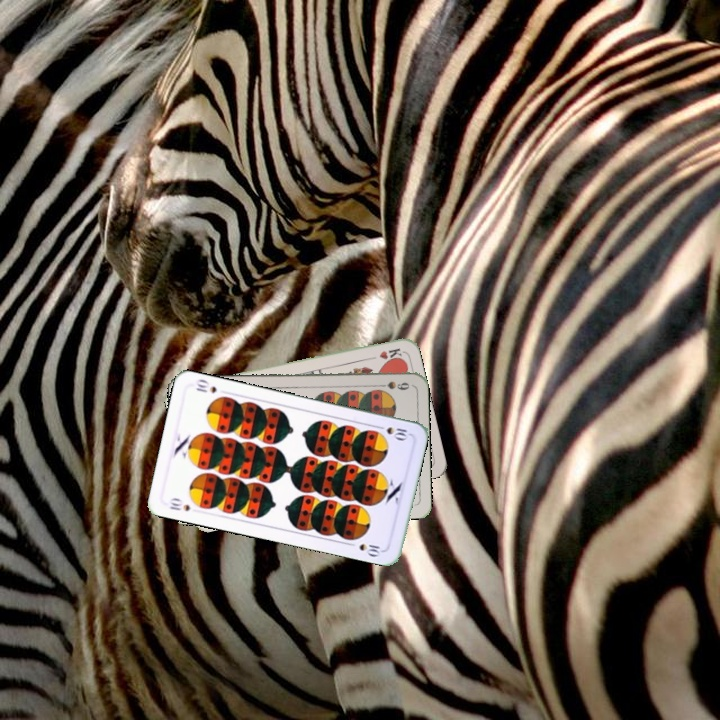HK: (363, 344, 404, 363)
S10: (372, 421, 412, 442), (165, 494, 192, 514)
S9: (372, 377, 412, 393)
